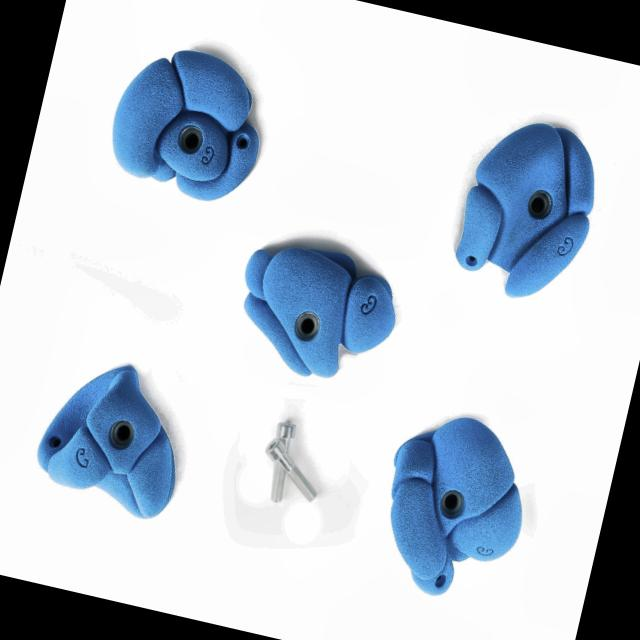Hold: (359, 408, 544, 618), (95, 39, 282, 218), (444, 105, 608, 309), (18, 348, 198, 528), (222, 237, 410, 399)
